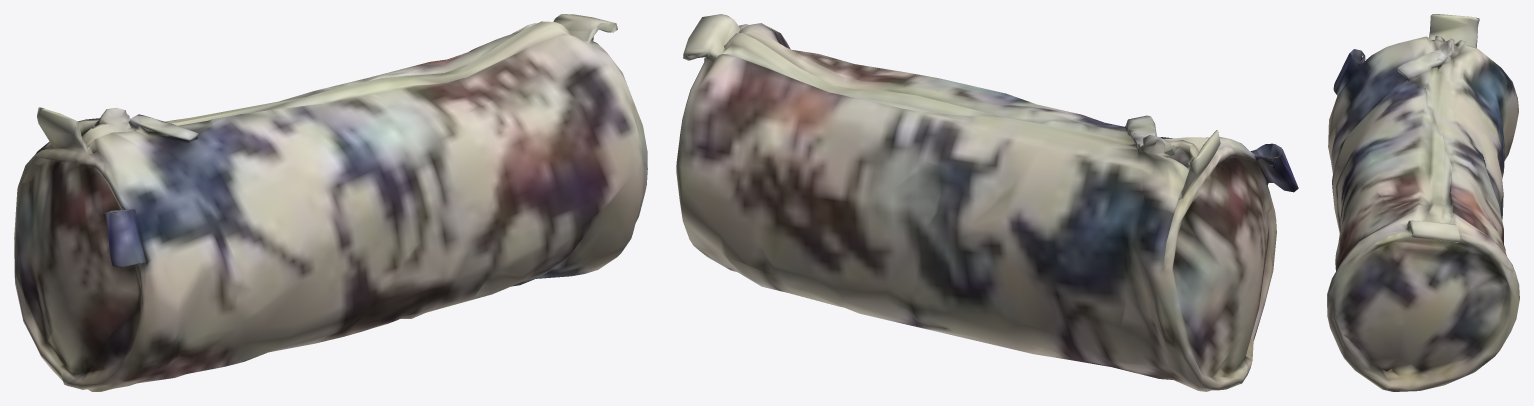
File: Horse_Dreams_Pencil_Case-medium.glb
3 renders of one model, left to right at view 1: azimuth 30°, elevation 25°; view 2: azimuth 150°, elevation 25°; view 3: azimuth 270°, elevation 25°, orthographic. The views are drawn at different scales.
Visible parts, largest first — view 1: Horse_Dreams_Pencil_Case; view 2: Horse_Dreams_Pencil_Case; view 3: Horse_Dreams_Pencil_Case.
Part boxes in pixels (left/top/right/bottom): Horse_Dreams_Pencil_Case: left=14, top=14, right=647, bottom=391; Horse_Dreams_Pencil_Case: left=676, top=14, right=1298, bottom=391; Horse_Dreams_Pencil_Case: left=1327, top=14, right=1519, bottom=391.
Bounding box in the file's own units: 0.2181 × 0.0974 × 0.0848.
Materials: 1 (1 with a texture image).
